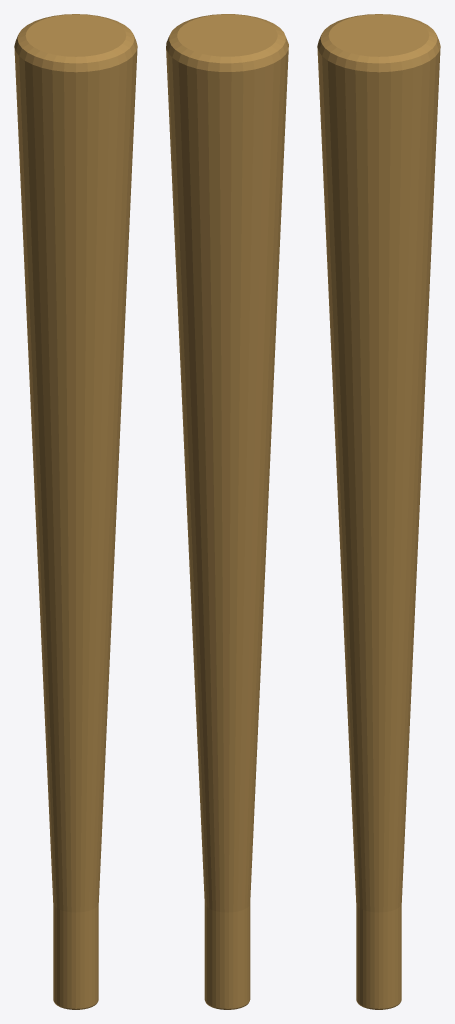
Rendered from BaseballBat.fbx.
3 renders of one model, left to right at view 1: azimuth 90°, elevation 25°; view 2: azimuth 150°, elevation 25°; view 3: azimuth 270°, elevation 25°, orthographic.
Parts seen in each view (by area): view 1: Cylinder; view 2: Cylinder; view 3: Cylinder.
Part boxes in pixels (box(x1,y1,x2,y2)): Cylinder: box(14, 14, 137, 1009); Cylinder: box(166, 14, 288, 1009); Cylinder: box(317, 14, 440, 1009).
Bounding box in the file's own units: 1.53 × 13.19 × 1.53.
